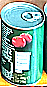tomatoes: (1, 1, 44, 86)
